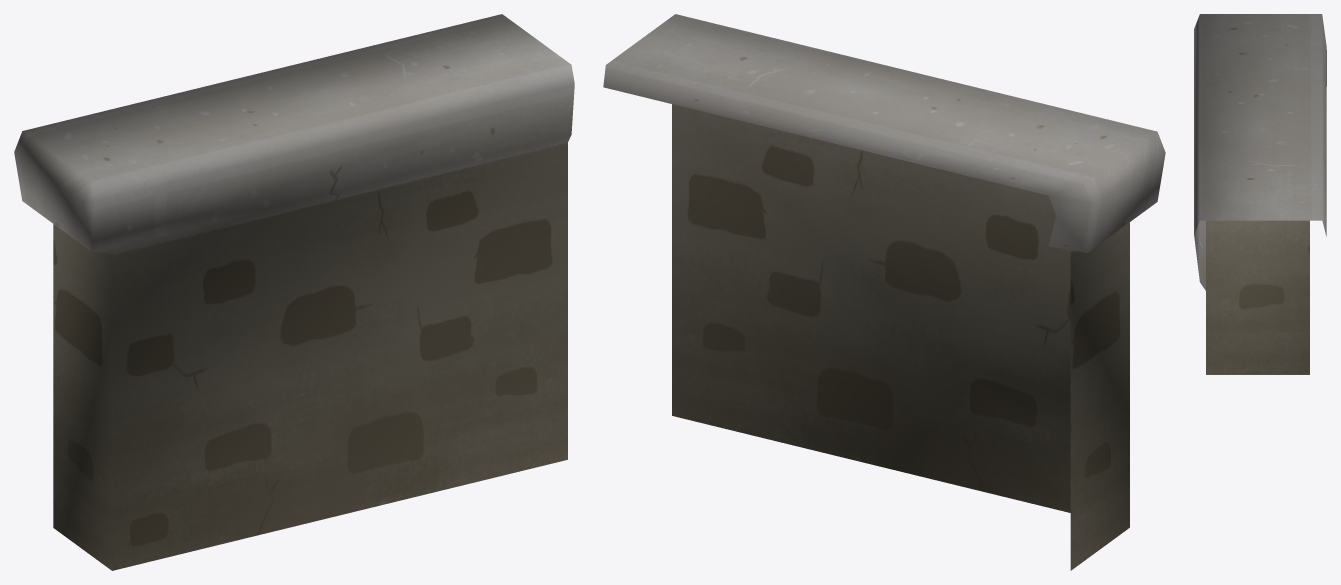
File: Gracht_V2_Hoek1.fbx
The picture shows the model from 3 angles, left to right: view 1: azimuth 30°, elevation 25°; view 2: azimuth 150°, elevation 25°; view 3: azimuth 270°, elevation 25°; orthographic projection. The views are drawn at different scales.
Visible parts, largest first — view 1: Plane.021; view 2: Plane.021; view 3: Plane.021.
Part boxes in pixels (x1,y1,x2,y2): Plane.021: (14, 14, 574, 570); Plane.021: (603, 14, 1165, 570); Plane.021: (1194, 14, 1326, 374).
Size of the model in its own units: 1094 by 852 by 292.
